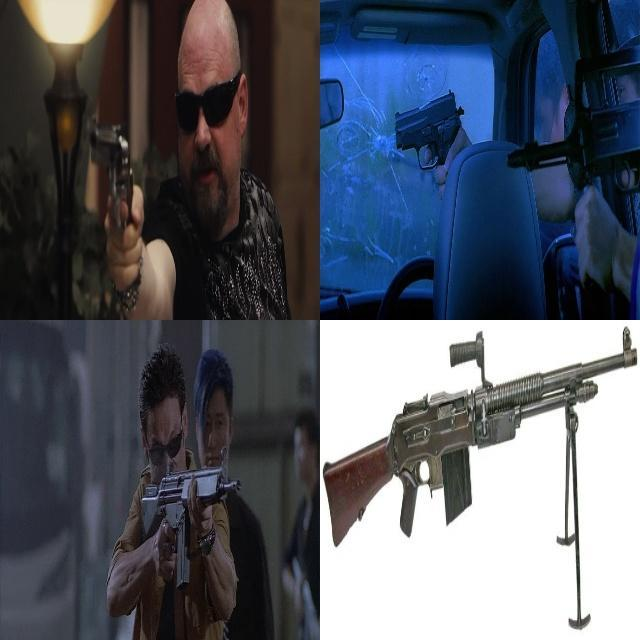gun-knife-thesis - v11 Yolov5 augmented: (328, 332, 637, 630), (141, 466, 235, 586), (391, 84, 471, 216), (80, 112, 143, 278)
